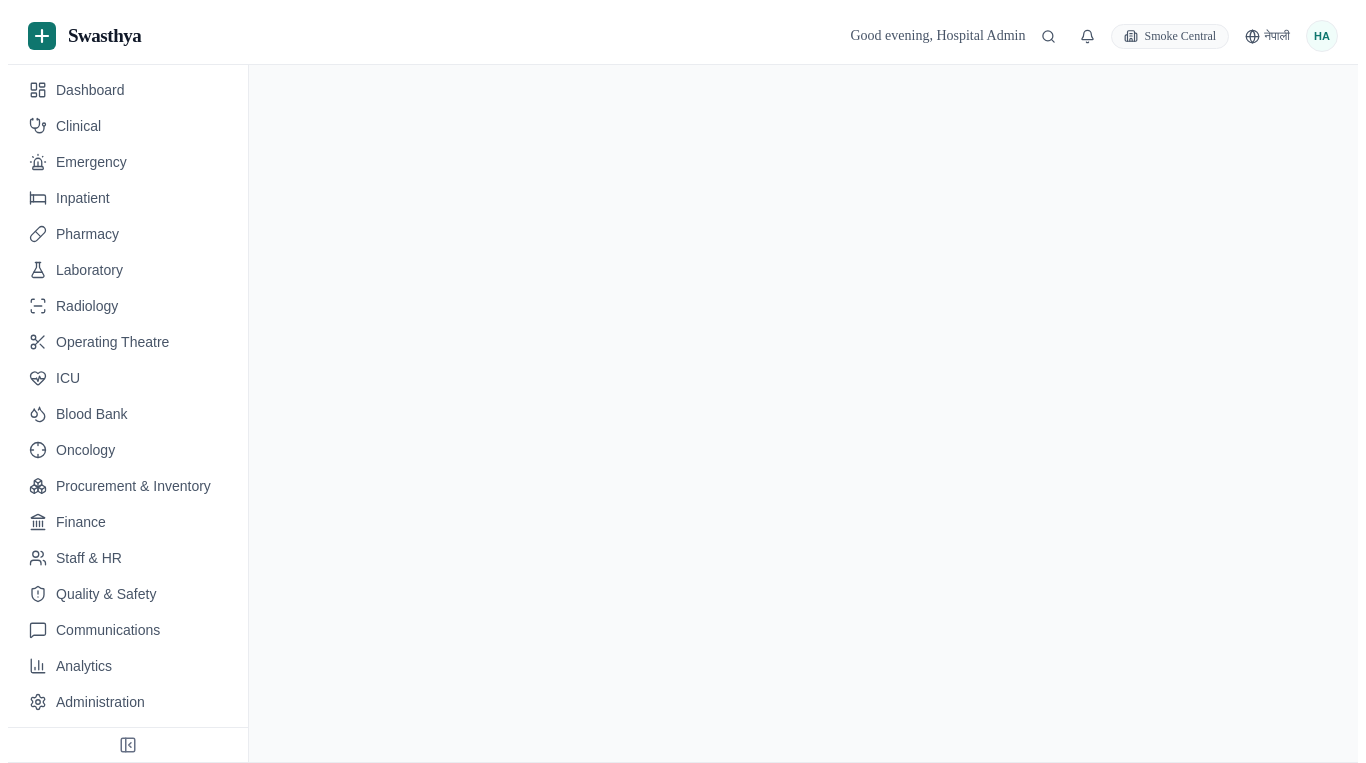
it: User account menu › closes dropdown on Escape key
Click the button with test id "user-menu-trigger". click: (1322, 36)
box: [1306,20,1338,52]
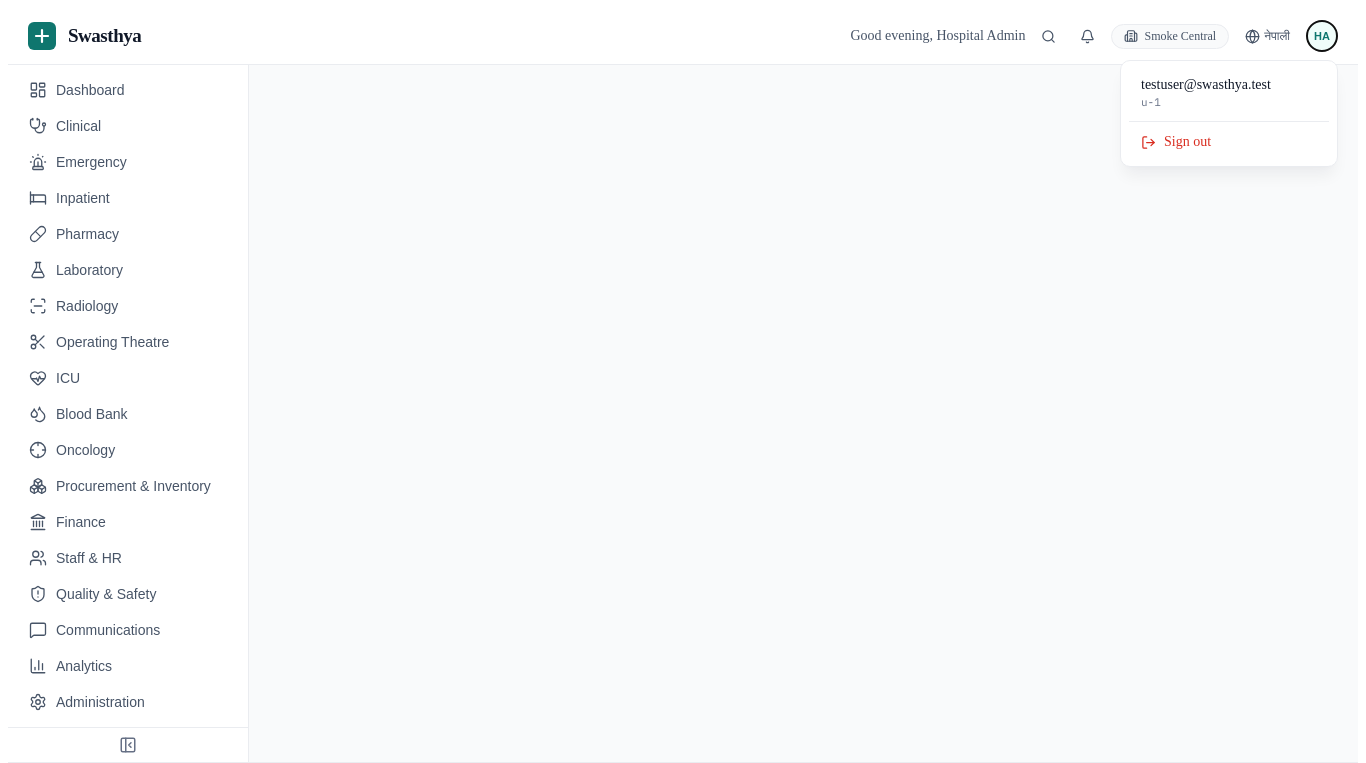
Expected: the menu with test id "user-menu-dropdown" is shown, [1120,60,1338,167]
Press Escape
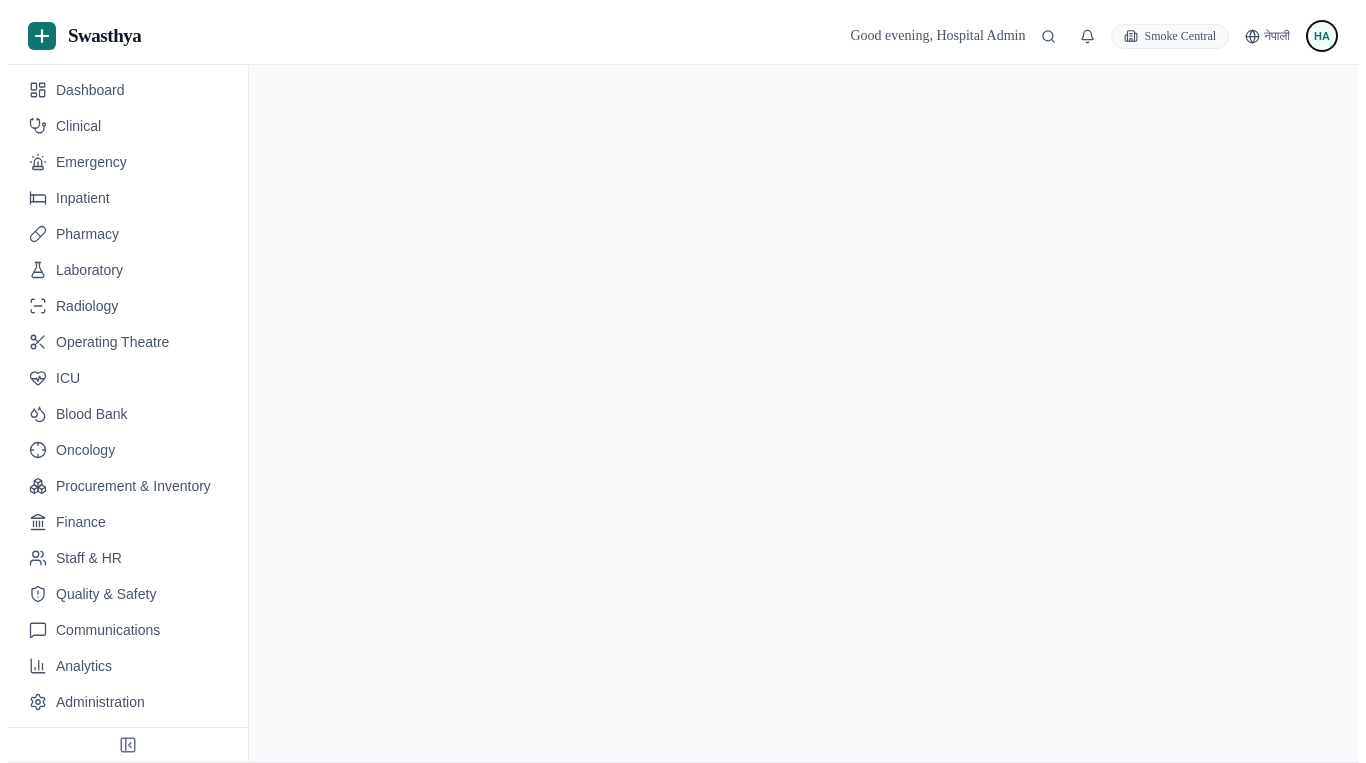
Expected: the menu with test id "user-menu-dropdown" is gone
